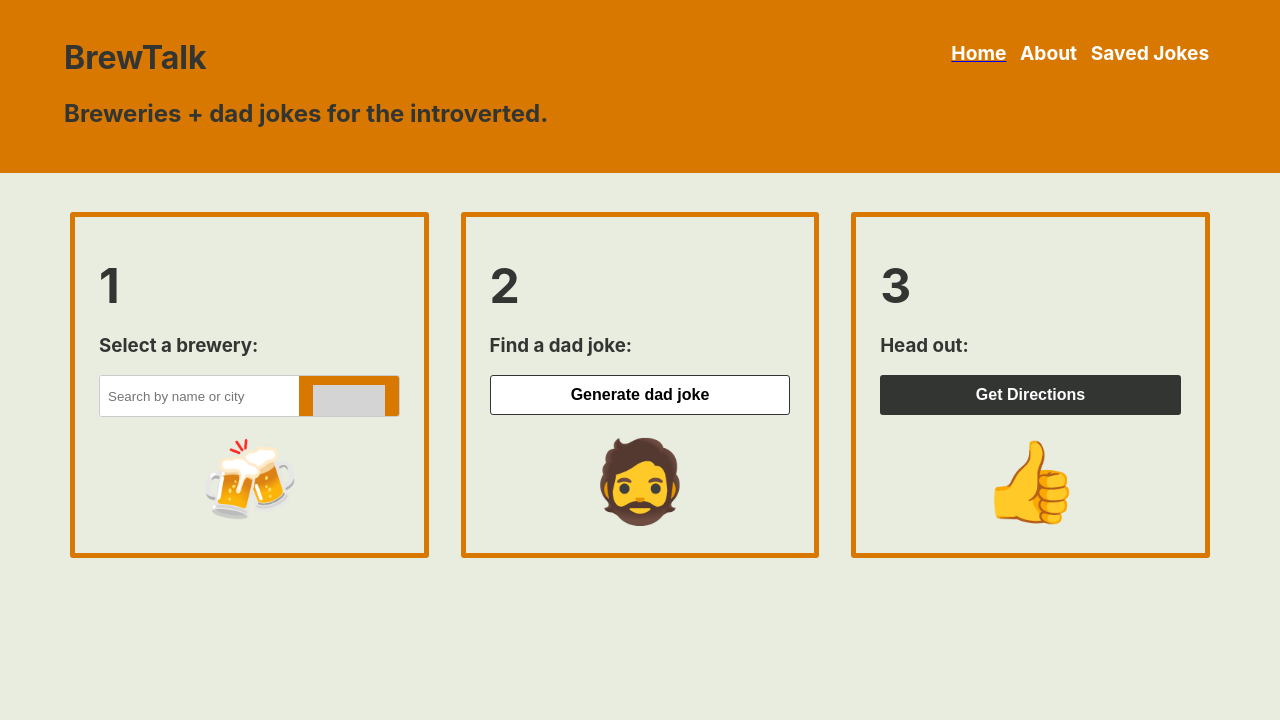
Test: Homepage: Step 2 › Should display an error message when the server returns a 400 error
Click the button named "getJoke" at (641, 395), box [490,375,791,415]
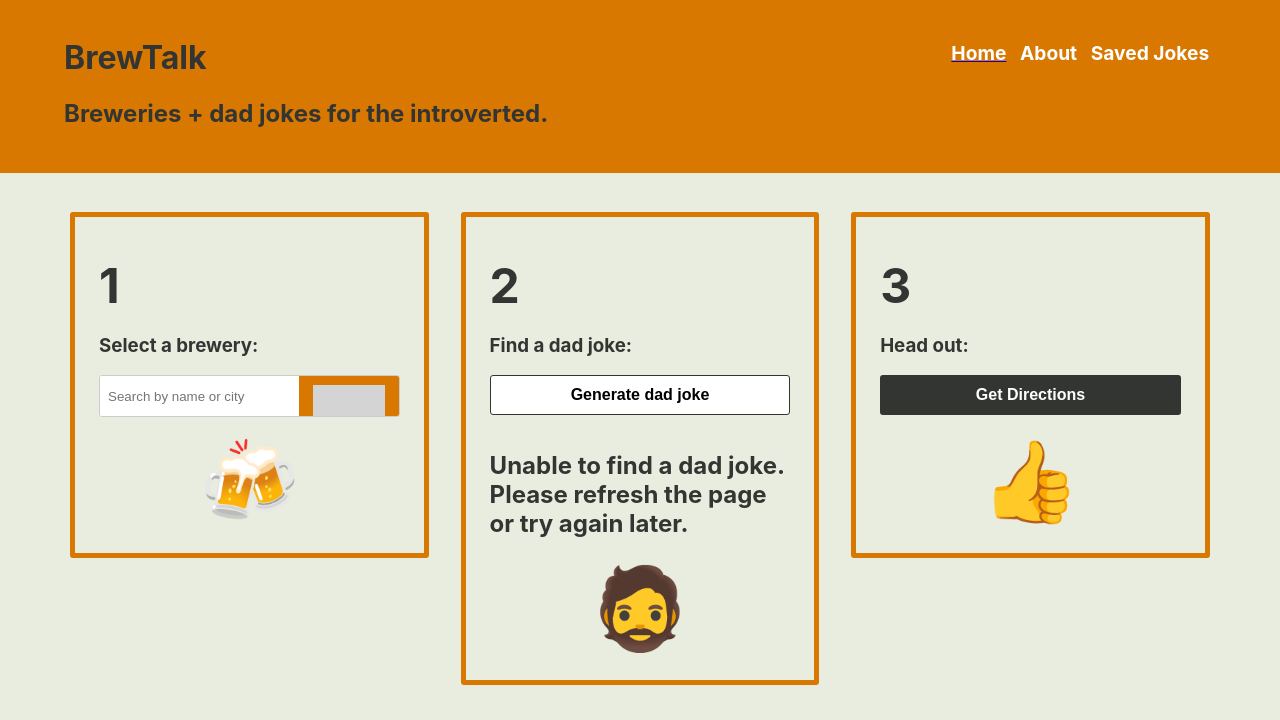
Check: the 9th heading reads "Unable to find a dad joke. Please refresh the page or try again later.", box [490,451,785,538]
